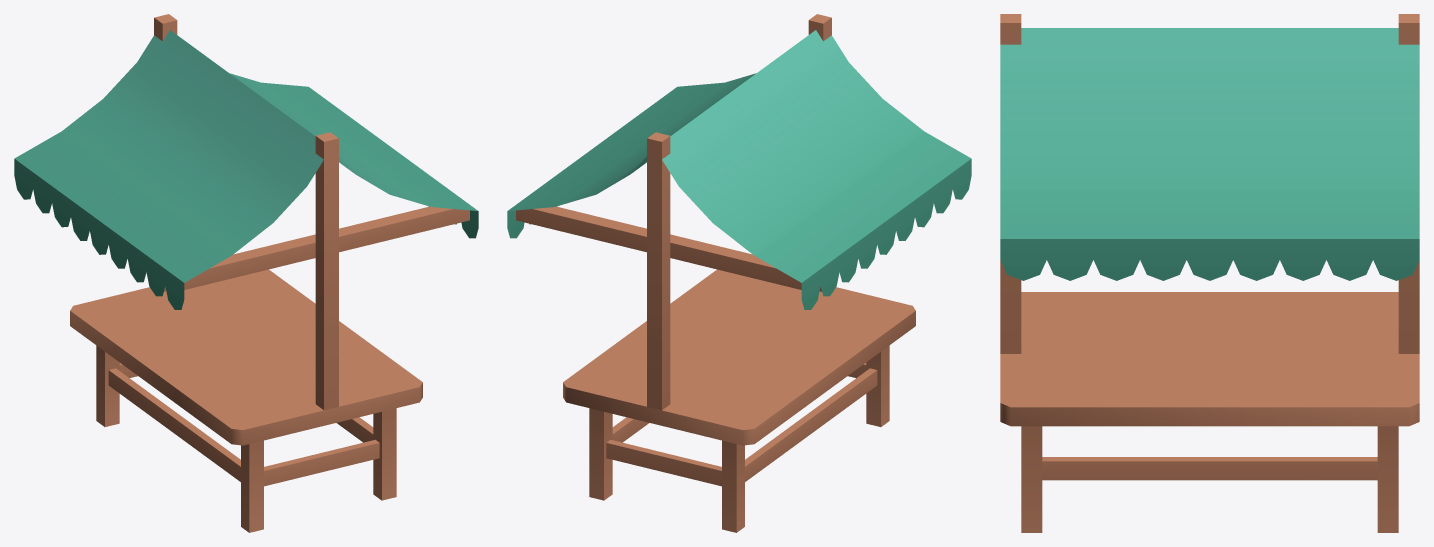
Rendered from stall_green.glb.
3 views of the same model, side by side, from view 1: azimuth 30°, elevation 25°; view 2: azimuth 150°, elevation 25°; view 3: azimuth 270°, elevation 25° (orthographic). The views are drawn at different scales.
Parts seen in each view (by area): view 1: stall-green; view 2: stall-green; view 3: stall-green.
Part boxes in pixels (bbox=[...]): stall-green: bbox=[14, 14, 478, 532]; stall-green: bbox=[507, 14, 971, 532]; stall-green: bbox=[1000, 14, 1419, 532].
Bounding box in the file's own units: 1 × 1.24 × 1.
Materials: 1 (1 with a texture image).
